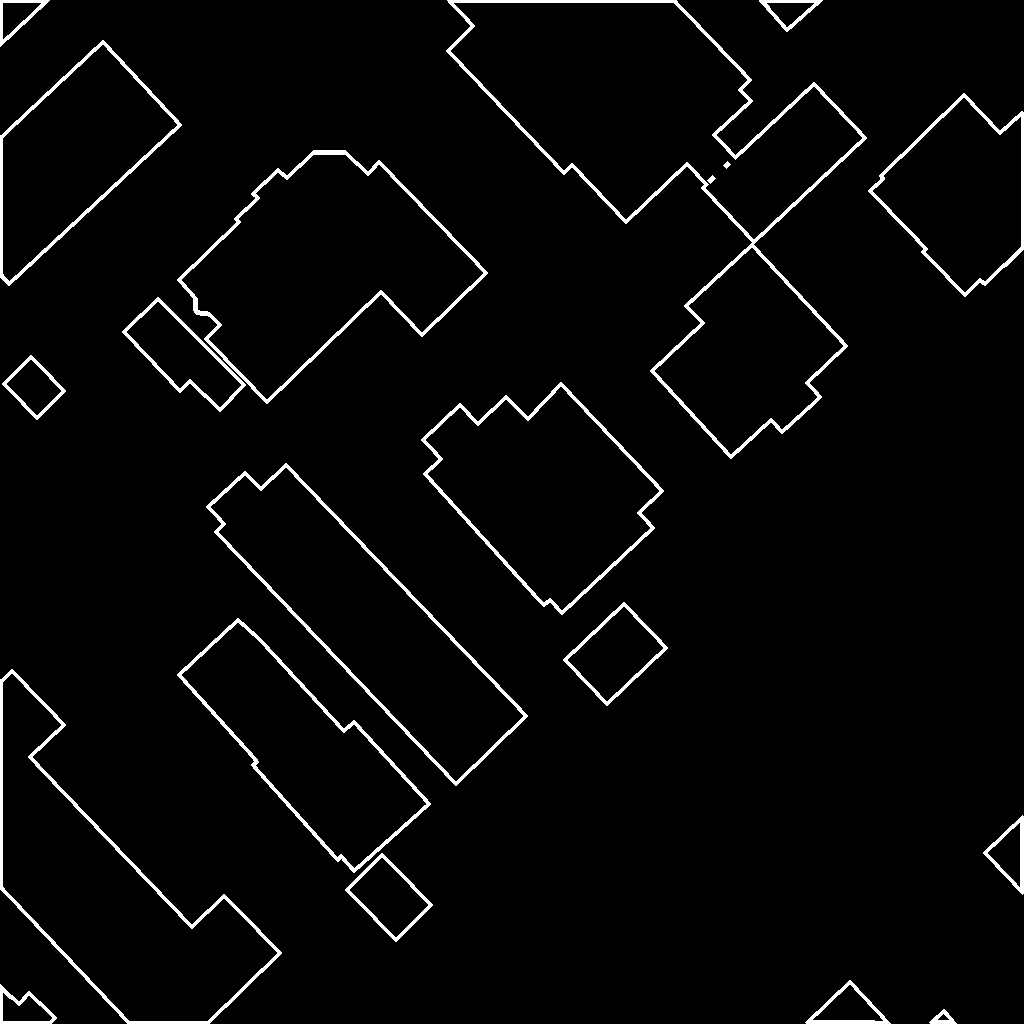building: (208, 465, 527, 785), (0, 671, 281, 1024), (179, 152, 487, 403), (448, 0, 752, 223), (179, 620, 430, 872), (423, 384, 663, 614), (0, 42, 181, 285), (652, 245, 847, 458), (870, 95, 1024, 296), (703, 84, 866, 243), (124, 299, 245, 411), (565, 604, 667, 705), (347, 855, 432, 941), (807, 982, 956, 1024), (4, 357, 65, 419), (985, 817, 1024, 894), (0, 0, 49, 46), (0, 986, 56, 1024), (760, 0, 822, 31)
